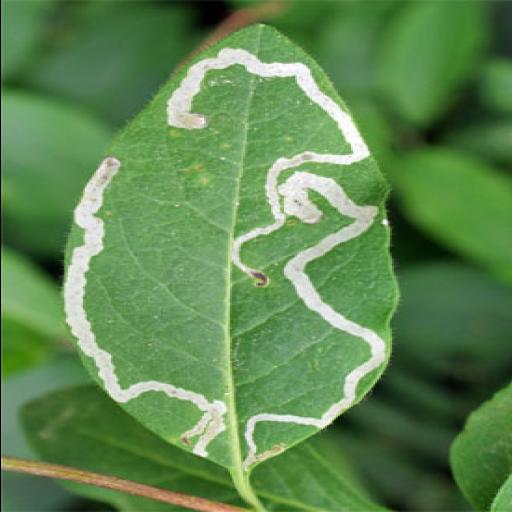disease_tomato: (58, 21, 406, 471)
